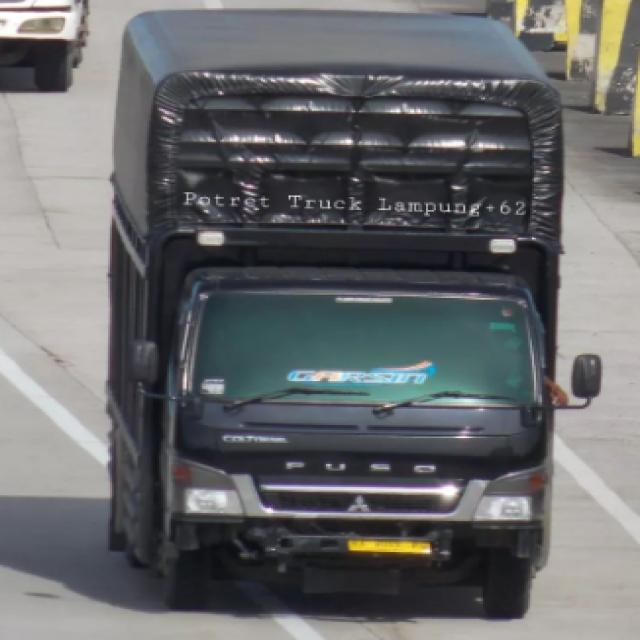truck: (107, 11, 620, 626)
